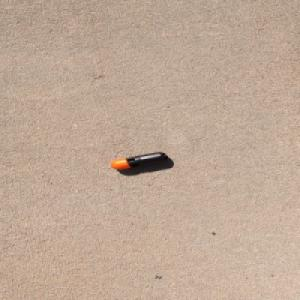PlasticPart: (108, 151, 169, 170)
